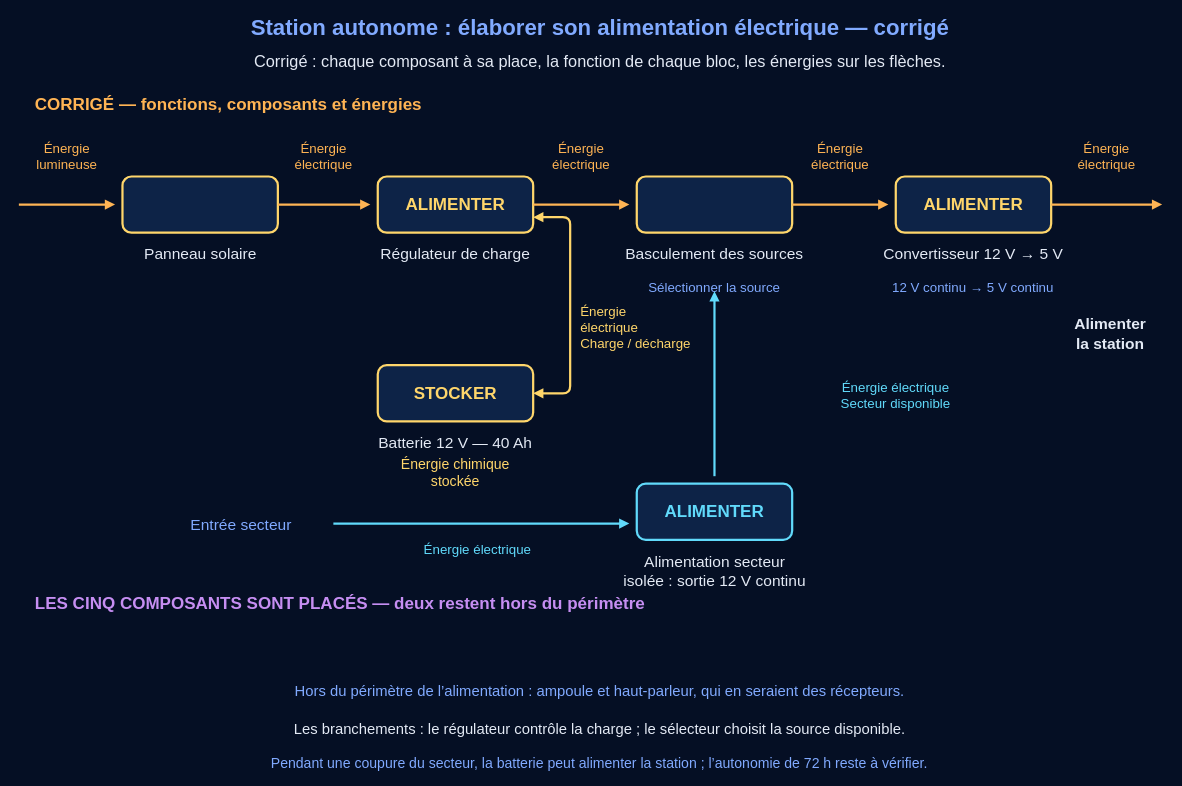
Image size: 1182x786. Some labels were removed from this diagram. The centre of each missing label's shape, as x and y in pixels:
"CONVERTIR" belongs at (x=200, y=204).
"DISTRIBUER" belongs at (x=714, y=204).
